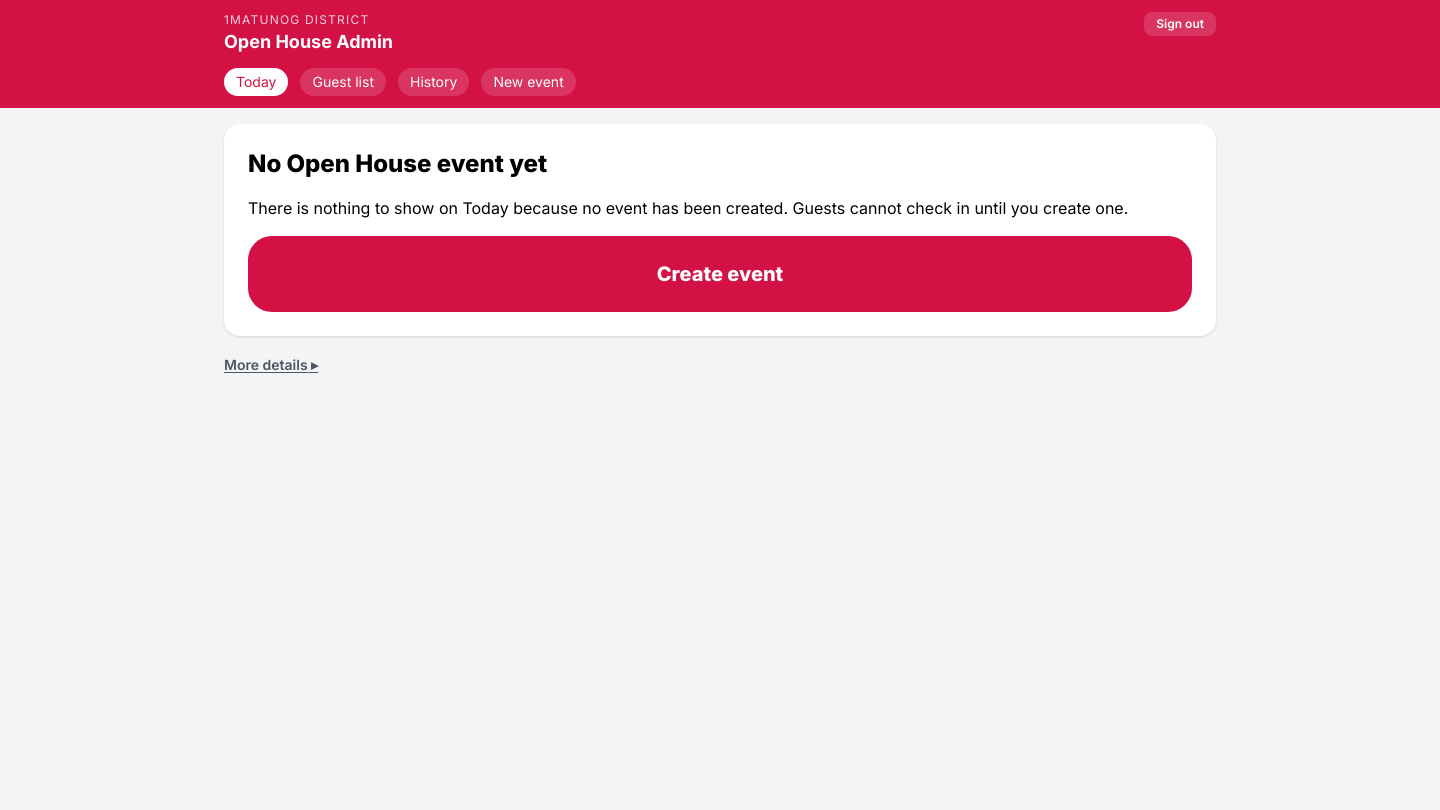
Test: AdminApp with an empty database › opens the create-event form from the empty Today button
Click the button "Create event": (720, 274) [248,236,1192,312]
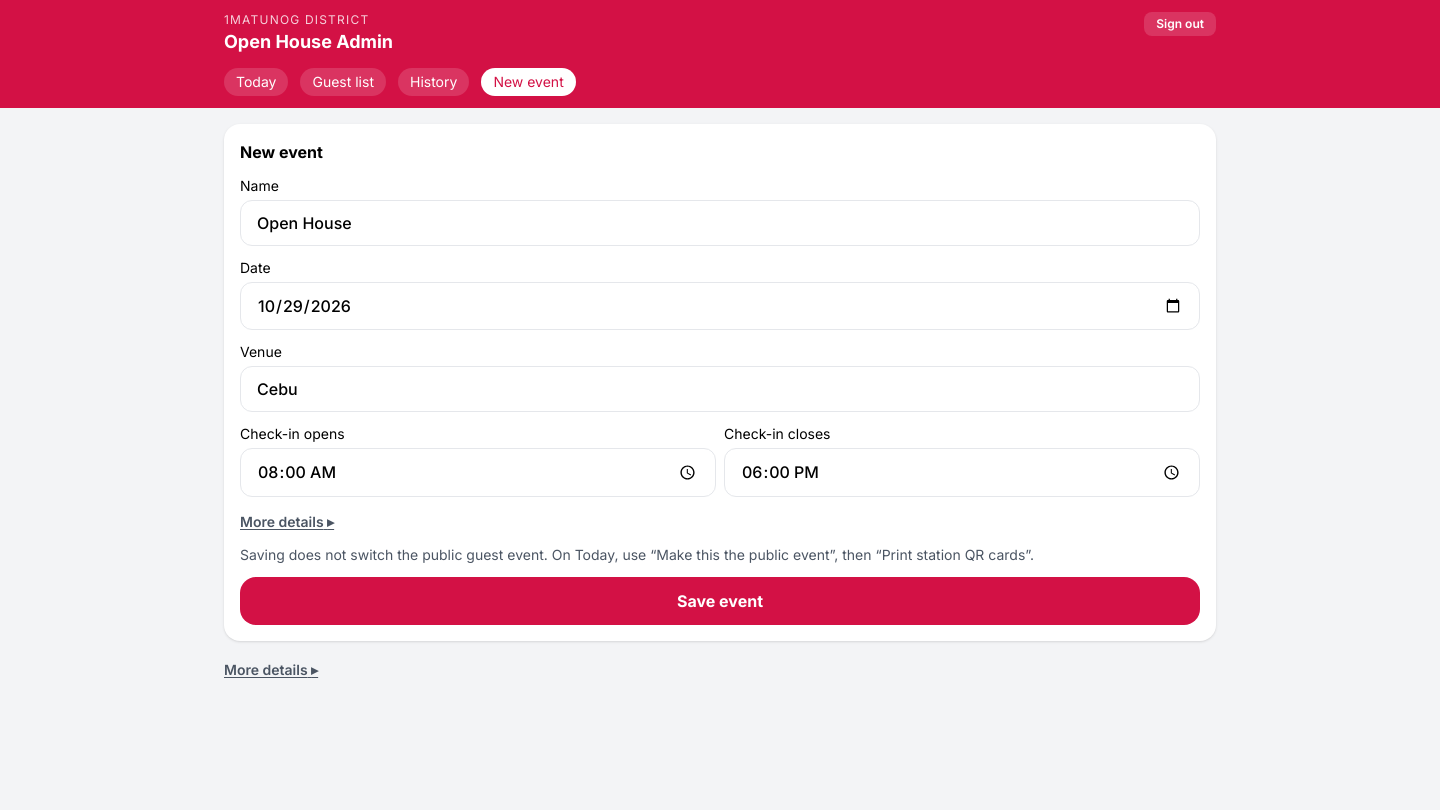
Now the heading "New event" is shown, box [240,142,323,162]
Now the button "Save event" is shown, box [240,577,1200,625]
